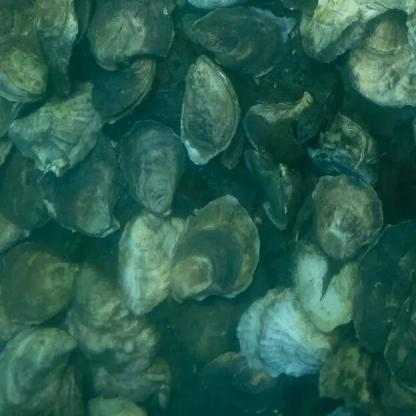Oyster- Indeterminate: (171, 197, 261, 304), (191, 6, 296, 77), (91, 56, 156, 125)
Oyster-Closed: (67, 264, 163, 377), (318, 321, 416, 416), (238, 288, 343, 375), (8, 81, 100, 175), (352, 221, 416, 353), (38, 132, 119, 235), (118, 210, 189, 315), (299, 0, 416, 63), (0, 325, 77, 416), (181, 55, 241, 166), (119, 121, 187, 217), (350, 11, 416, 108), (0, 244, 78, 325), (313, 176, 384, 260), (88, 0, 173, 67), (306, 112, 380, 183), (87, 355, 173, 407), (171, 299, 238, 362), (205, 350, 276, 408), (246, 150, 295, 229), (0, 146, 48, 226), (0, 32, 52, 103), (39, 2, 77, 99), (388, 292, 416, 392), (42, 368, 85, 416), (29, 0, 72, 33), (87, 399, 151, 416), (0, 100, 24, 136), (0, 137, 12, 167)
